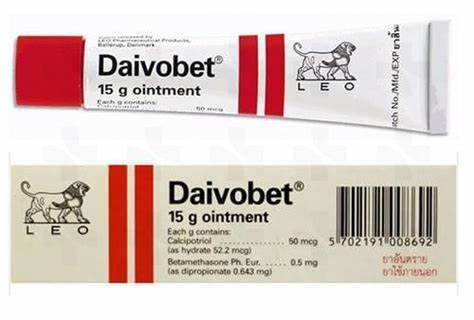Medicine: (5, 157, 465, 289), (9, 16, 457, 136)
